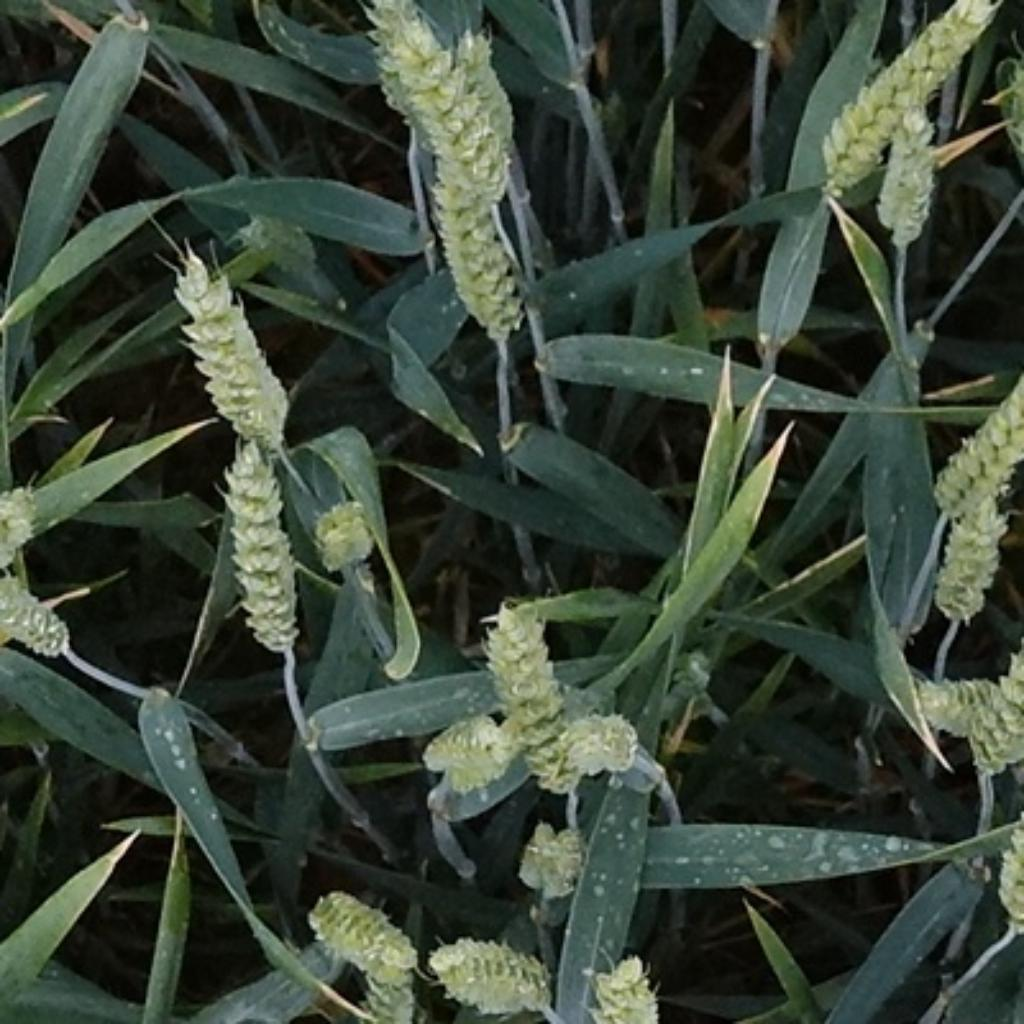0-0: (818, 2, 995, 205), (148, 243, 294, 445), (371, 3, 495, 188), (476, 596, 581, 814), (204, 437, 309, 652), (919, 348, 1024, 524), (422, 180, 528, 343), (919, 480, 1013, 632), (906, 642, 1024, 755), (865, 97, 942, 257), (422, 924, 560, 1013), (296, 878, 419, 977), (415, 701, 524, 799), (550, 696, 645, 788), (453, 22, 522, 140), (576, 939, 670, 1024), (512, 811, 595, 905), (2, 563, 79, 663), (308, 492, 385, 581), (235, 202, 322, 266), (348, 954, 422, 1024), (1, 470, 56, 559), (985, 638, 1024, 762), (986, 809, 1024, 931), (665, 636, 728, 708)
